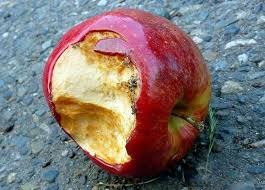damaged_apple: (40, 12, 214, 178)
